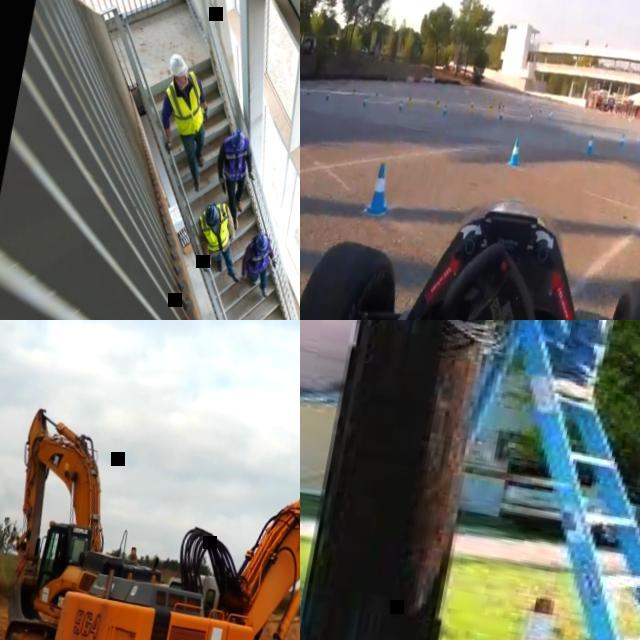helmet: (167, 52, 191, 78), (202, 201, 222, 228), (229, 128, 247, 154), (254, 231, 270, 254)
vest: (158, 66, 211, 137), (194, 198, 235, 252), (217, 132, 252, 182), (245, 232, 272, 270)
